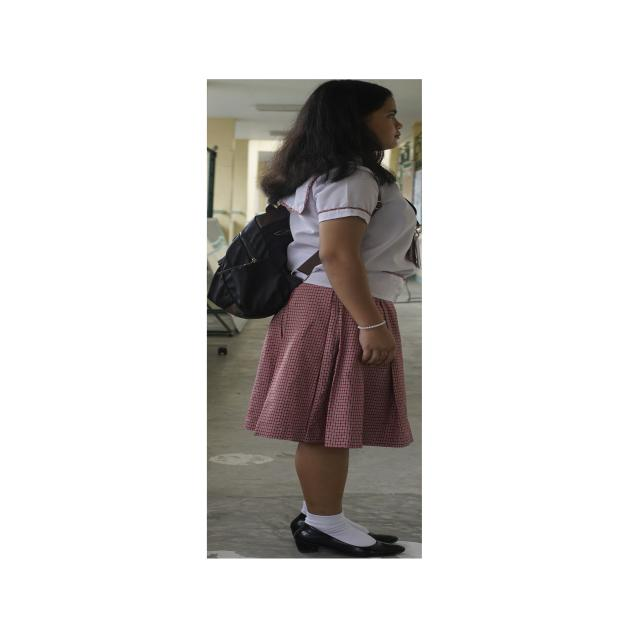shoes: (290, 513, 406, 558)
skirt: (244, 284, 413, 448)
